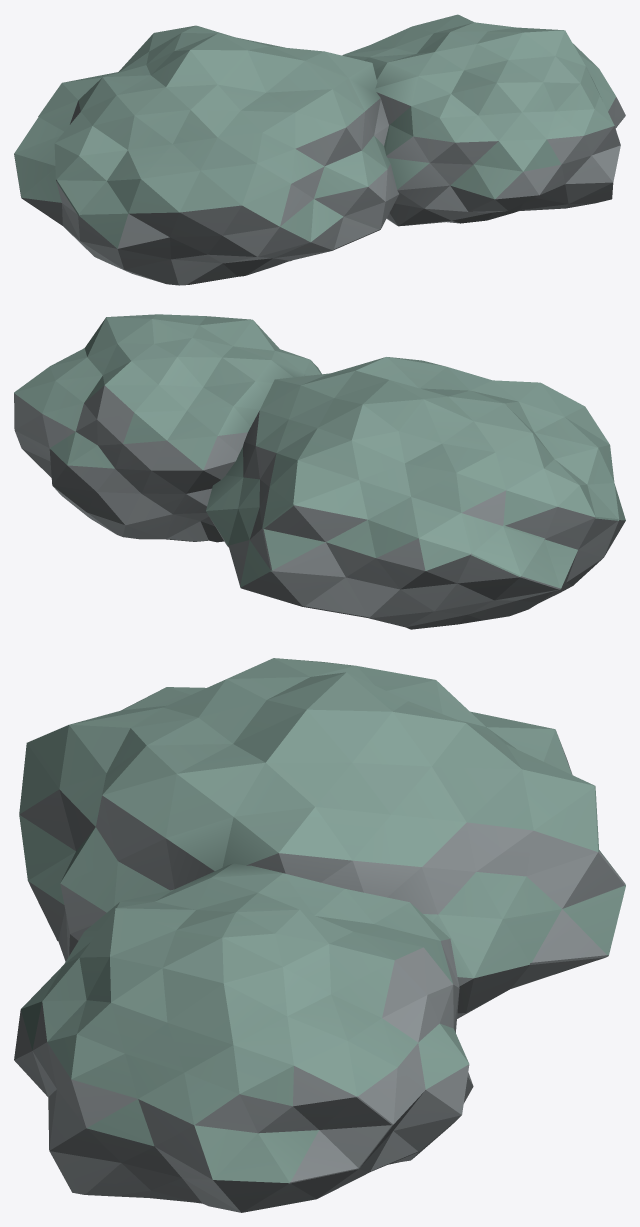
Rendered from rock_mossy_b.glb.
3 renders of one model, top to bottom at view 1: azimuth 30°, elevation 25°; view 2: azimuth 150°, elevation 25°; view 3: azimuth 270°, elevation 25°, orthographic. The views are drawn at different scales.
Bounding box in the file's own units: 3.17 × 0.9359 × 1.97.
